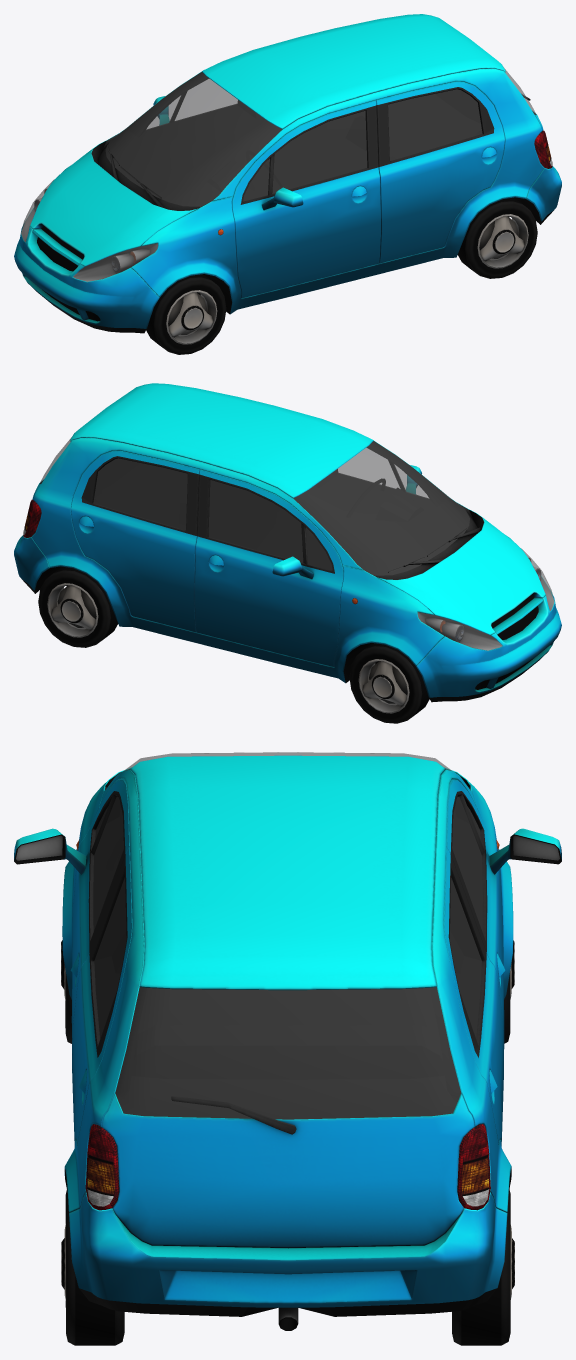
Rendered from compact.glb.
3 views of the same model, one above another, from view 1: azimuth 30°, elevation 25°; view 2: azimuth 150°, elevation 25°; view 3: azimuth 270°, elevation 25° (orthographic). The views are drawn at different scales.
Parts seen in each view (by area): view 1: compact; view 2: compact; view 3: compact.
Boxes of the visible parts, x1,y1,x2,y2 form: compact: (14, 14, 561, 354); compact: (14, 383, 561, 723); compact: (14, 752, 561, 1345).
Bounding box in the file's own units: 3.9 × 1.57 × 1.92.
Materials: 4 (3 with a texture image).
